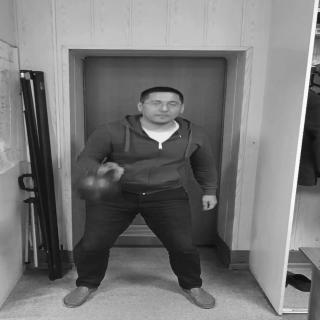kettlebell: (75, 165, 126, 203)
